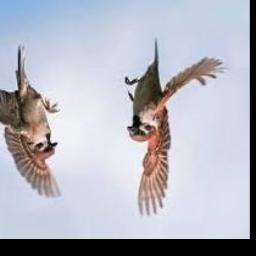Sparrow: (123, 40, 227, 216), (0, 43, 61, 199)
